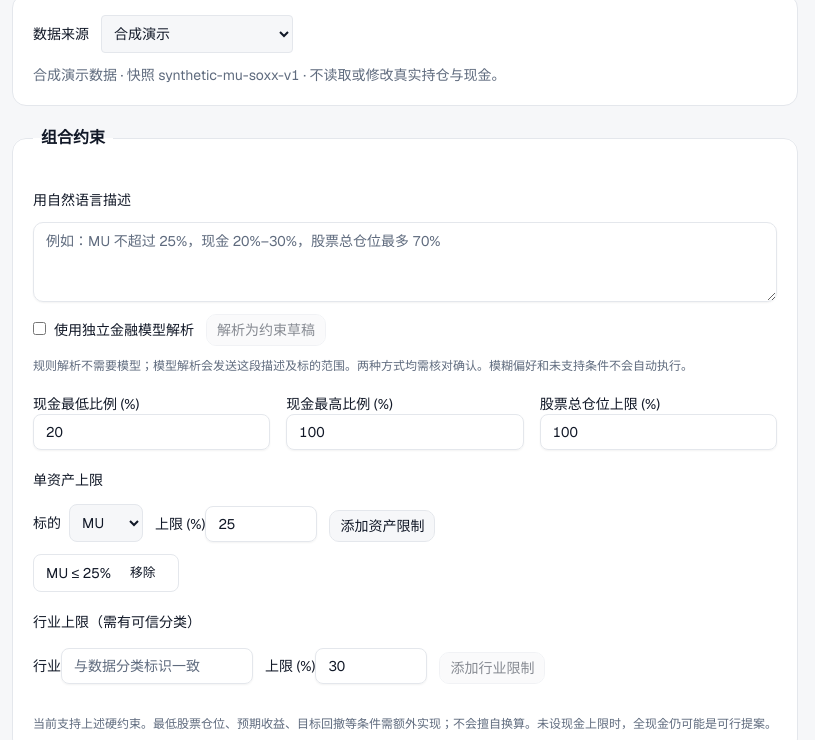
Scenario: applies a natural-language draft only after parsing, then requires confirmation
Type "MU不超过15%，现金20%–30%" into the text box labelled "用自然语言描述" at (405, 262), box x1=33 y1=222 x2=777 y2=302
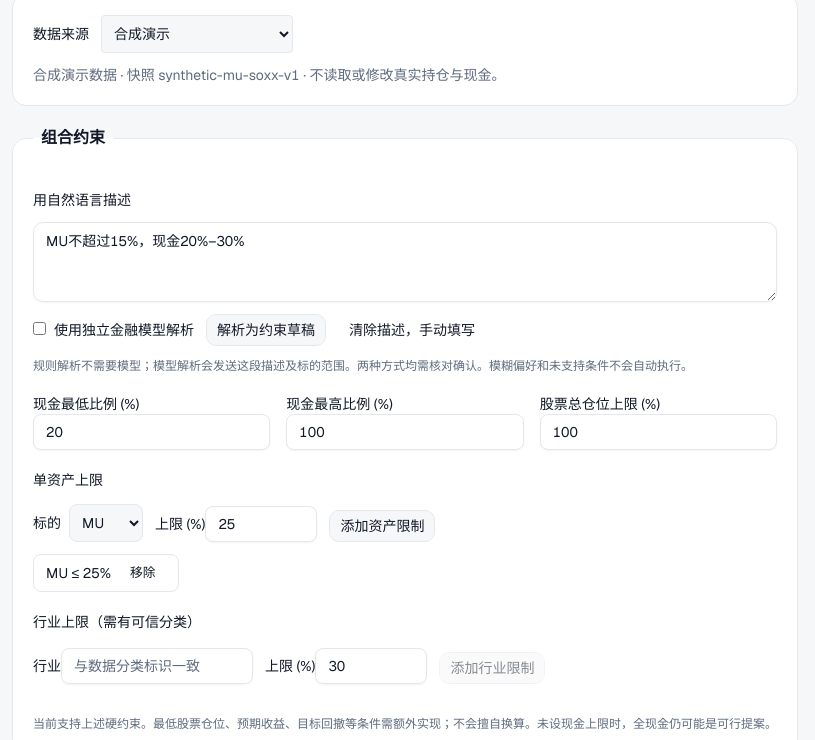
Click the button "解析为约束草稿" at (266, 330), box x1=206 y1=314 x2=326 y2=346
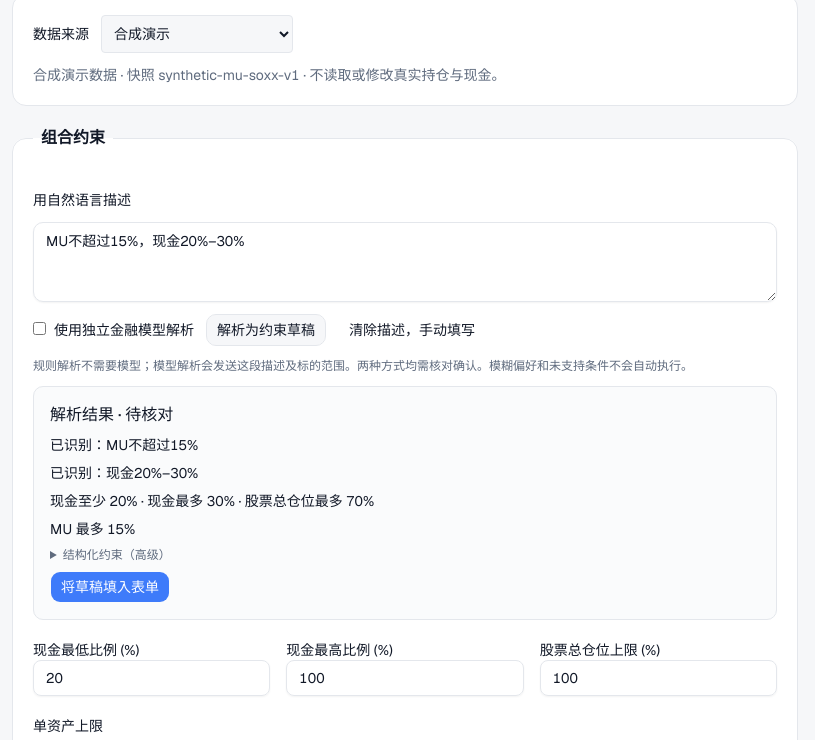
Expected: the text "解析结果 · 待核对" is shown, x1=50 y1=404 x2=173 y2=425
Click the button "将草稿填入表单" at (110, 587), box x1=50 y1=571 x2=170 y2=603
(page scrolled)
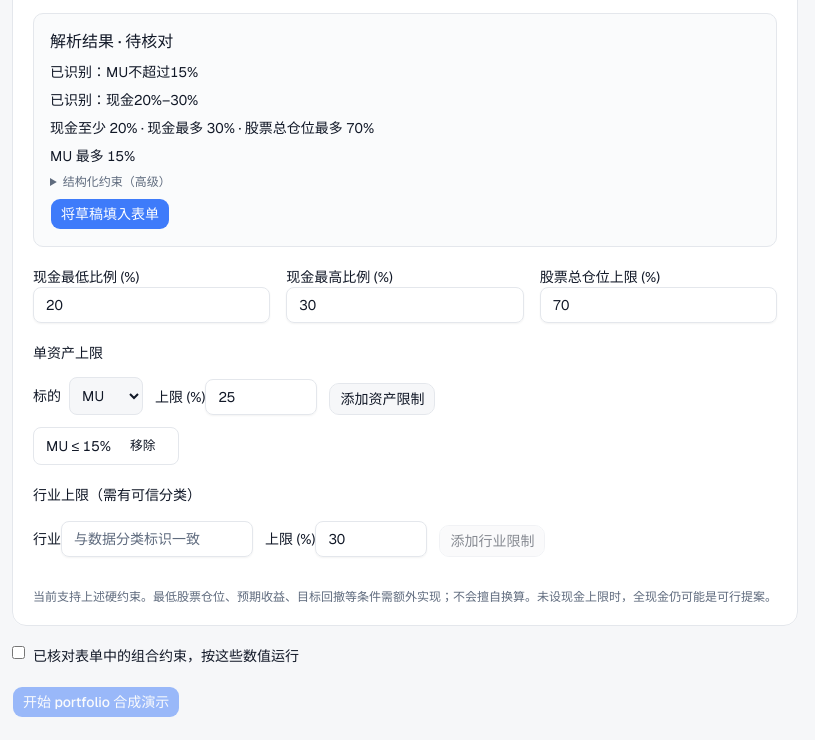
Expected: the number field labelled "现金最高比例 (%)" holds "30", x1=286 y1=287 x2=524 y2=323
Click the checkbox named "确认组合约束" at (18, 652), box x1=12 y1=646 x2=25 y2=659
(page scrolled)
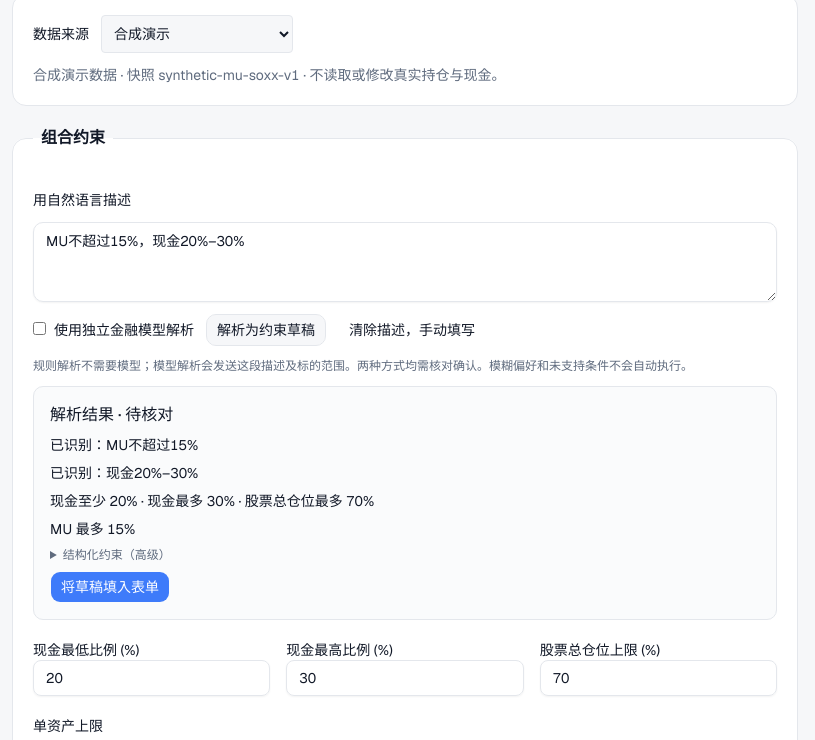
Replace the text in the text box labelled "用自然语言描述" with "稳健一点" at (405, 262), box x1=33 y1=222 x2=777 y2=302
(page scrolled)
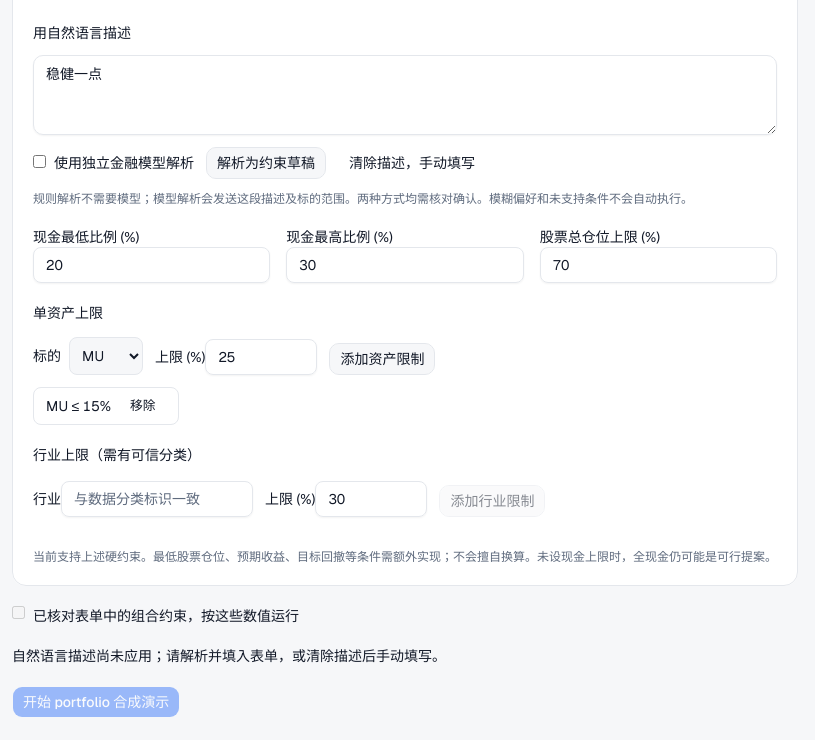
Expected: the button "开始 portfolio 合成演示" is disabled, x1=12 y1=686 x2=180 y2=718
